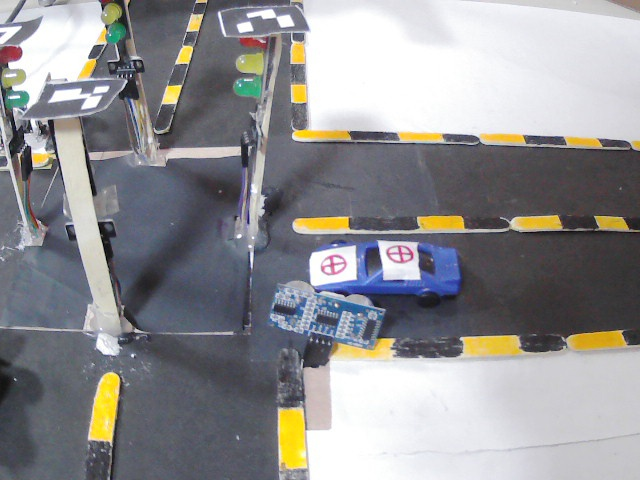aruco_marker: (22, 75, 125, 122), (220, 2, 310, 40), (0, 17, 41, 52)
emergency_vehicle: (307, 235, 465, 311)
traffic_light: (231, 37, 272, 126), (0, 45, 29, 135), (96, 0, 129, 62)
uno_breadboard: (267, 279, 386, 365)
